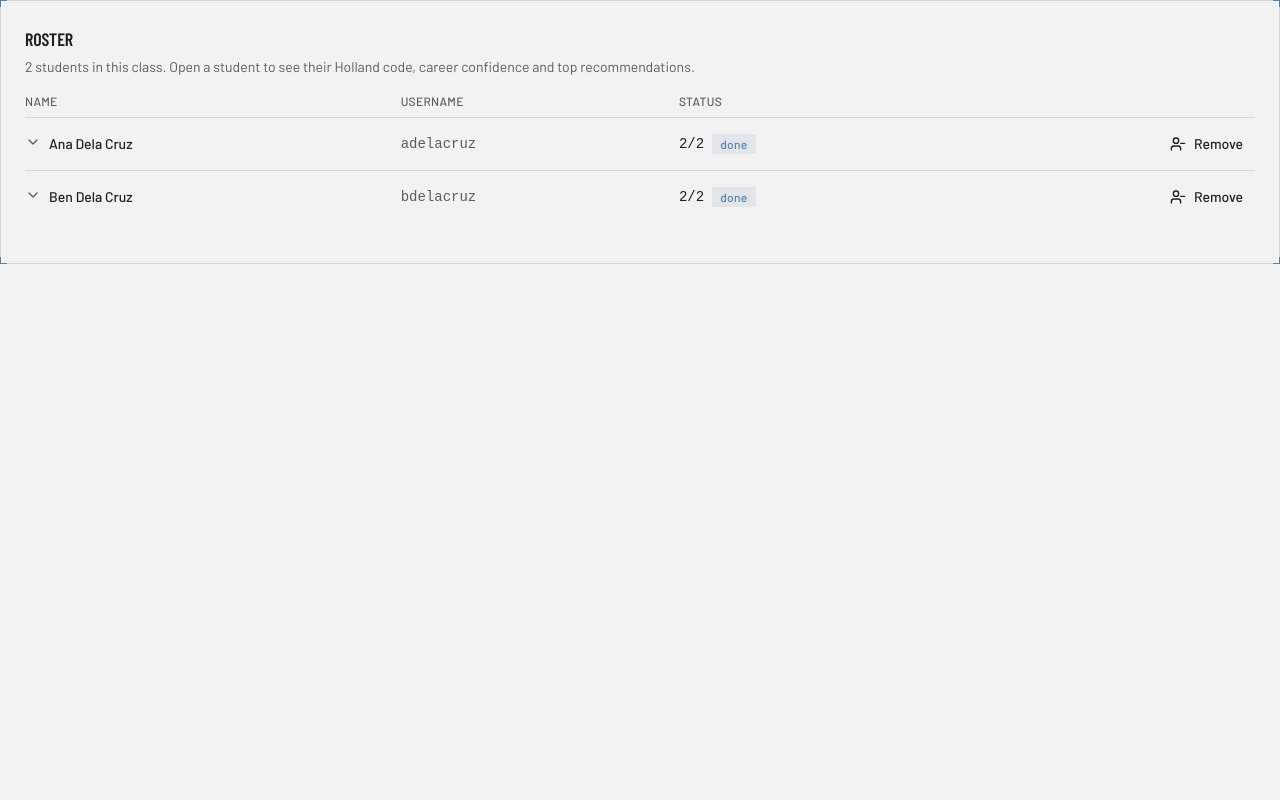
it: RosterTable › says so plainly when a student has not taken an instrument
Step 1. Click the button "Ben Dela Cruz" → (79, 196), box [25,186,133,206]
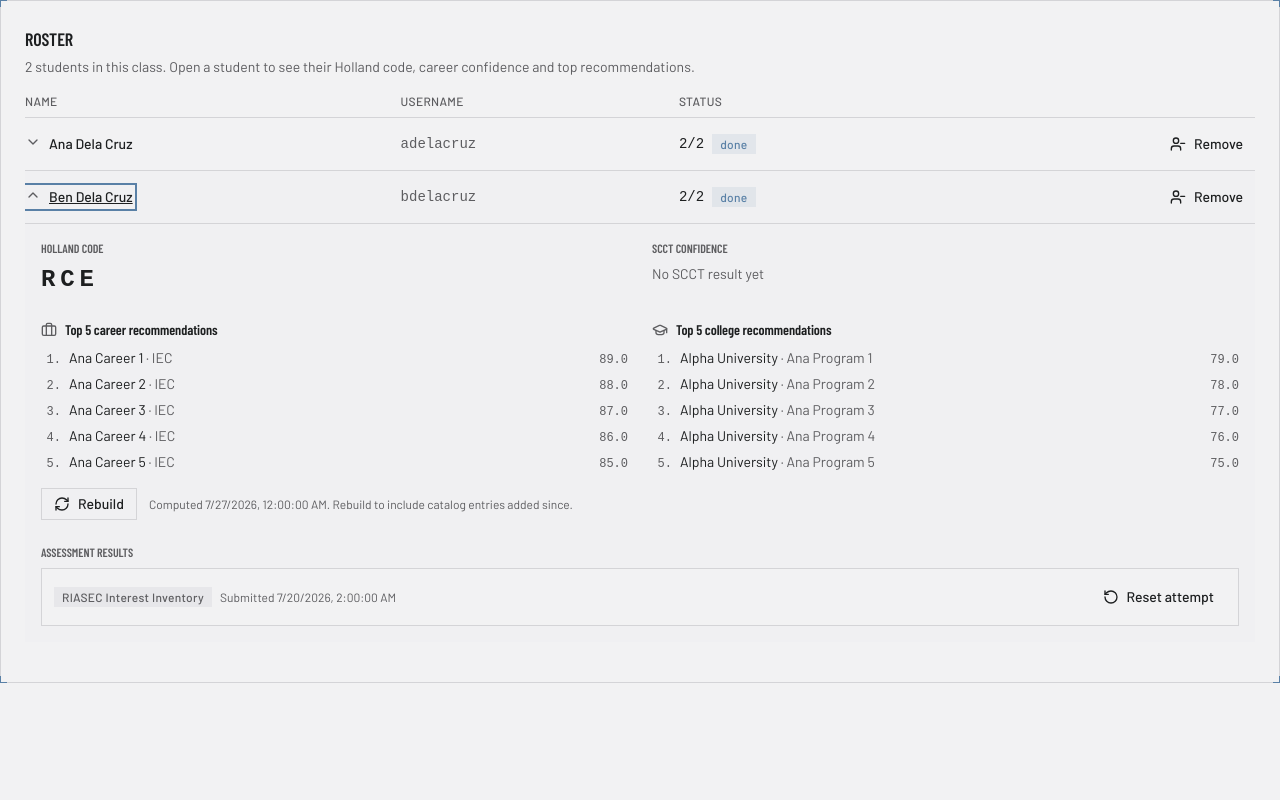
Check: the text "RCE" is shown, box [41,266,99,293]
Check: the text "No SCCT result yet" is shown, box [652,265,764,282]
